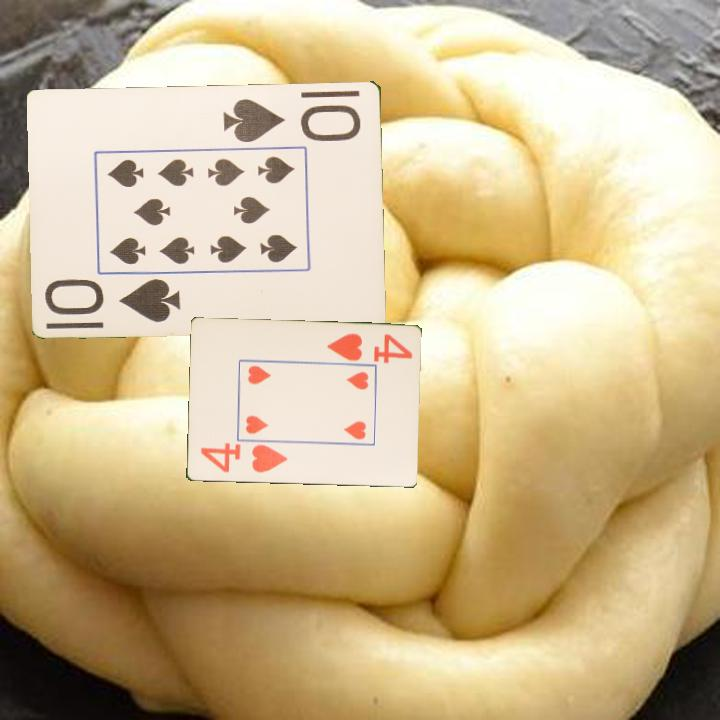10s: (219, 94, 365, 145), (42, 275, 184, 325)
4h: (197, 440, 290, 476), (323, 330, 415, 365)
